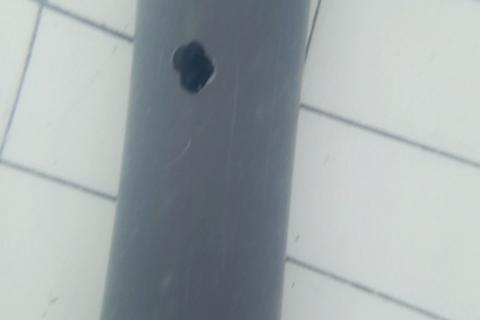kebocoran: (170, 39, 216, 98)
